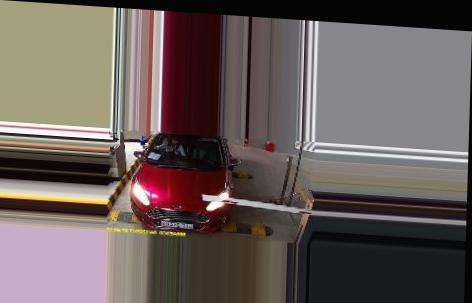License_Plate: (161, 220, 193, 229)
